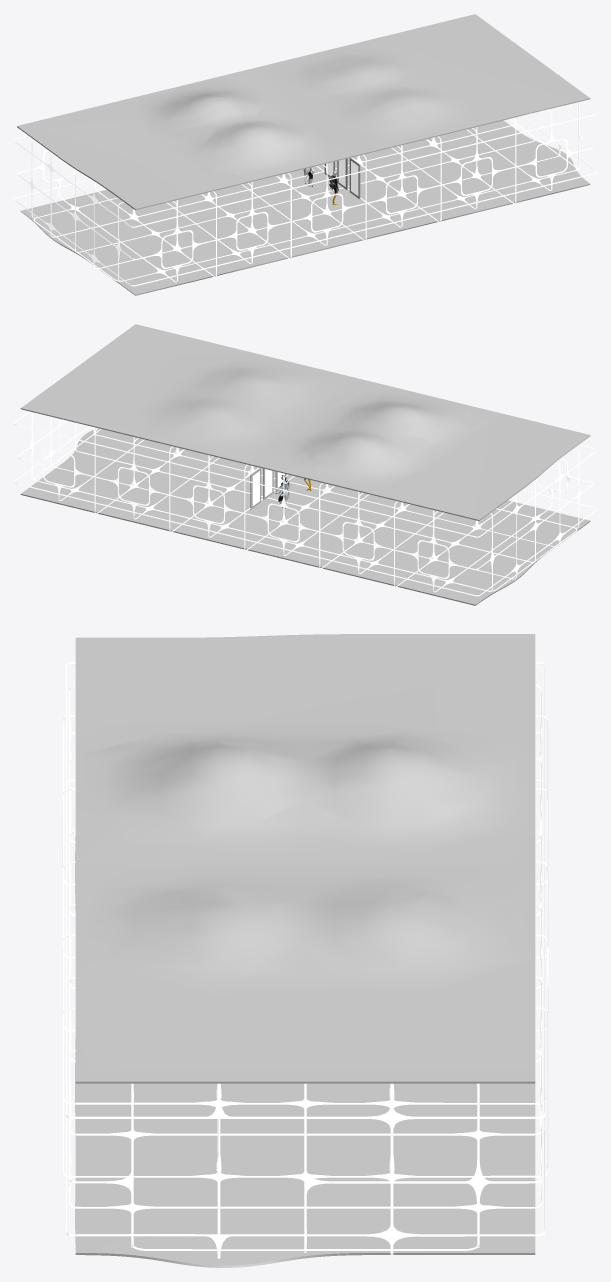
File: HATCTH3D-v2.glb
3 views of the same model, one above another, from view 1: azimuth 30°, elevation 25°; view 2: azimuth 150°, elevation 25°; view 3: azimuth 270°, elevation 25° (orthographic). The views are drawn at different scales.
Visible parts, largest first — view 1: Merged Objects, Cube.003; view 2: Merged Objects, Cube.003; view 3: Merged Objects.
Part boxes in pixels (box(x1,y1,x2,y2)): Merged Objects: box(14, 14, 596, 295); Cube.003: box(324, 158, 360, 199); Merged Objects: box(14, 324, 596, 605); Cube.003: box(250, 468, 286, 509); Merged Objects: box(62, 634, 548, 1267).
Bounding box in the file's own units: 26.56 × 5.42 × 11.79.
7 materials, 3 textured.
